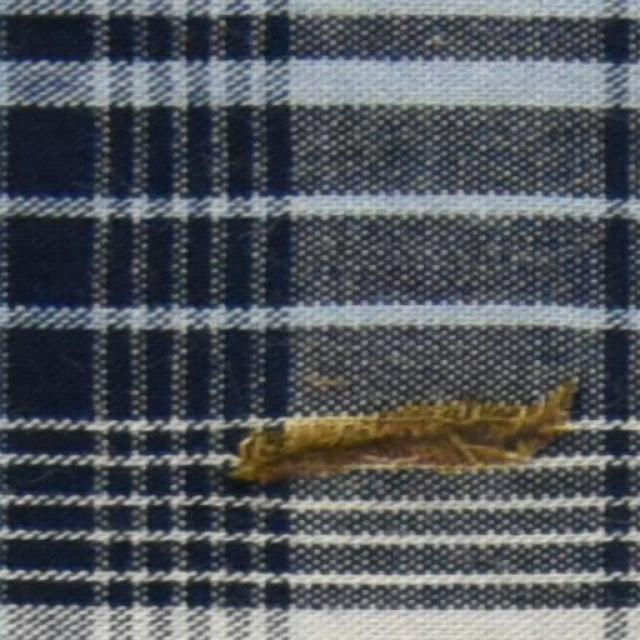Stain: (220, 389, 579, 483)
